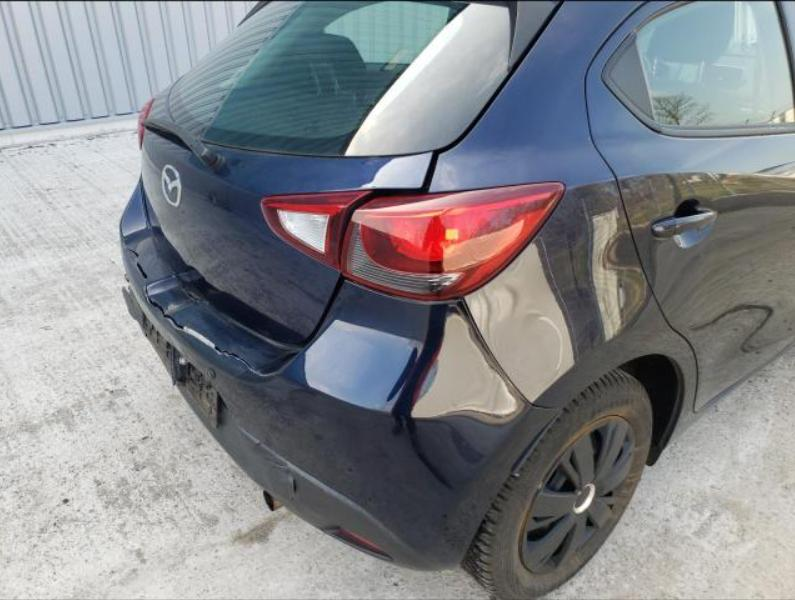Back-bumper: (119, 224, 549, 569)
Back-door: (586, 2, 794, 408)
Back-wheel: (459, 369, 654, 600)
Back-window: (636, 2, 792, 121)
Back-windshield: (173, 2, 520, 159)
License-plate: (141, 314, 219, 428)
Quarter-panel: (431, 127, 694, 425)
Rocker-panel: (654, 338, 794, 466)
Tail-light: (340, 182, 564, 303), (260, 194, 368, 275)
Trunk: (118, 84, 436, 382)
